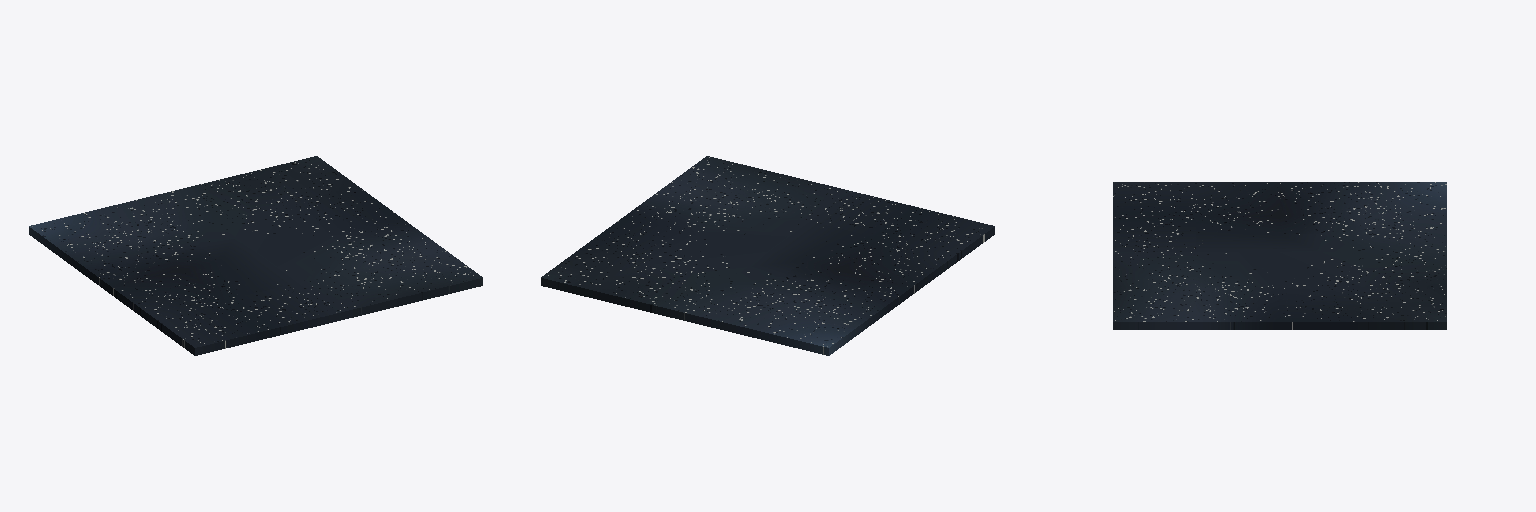
The picture shows the model from 3 angles: view 1: azimuth 30°, elevation 25°; view 2: azimuth 150°, elevation 25°; view 3: azimuth 270°, elevation 25°; orthographic projection.
Parts seen in each view (by area): view 1: Cube_Cube.001; view 2: Cube_Cube.001; view 3: Cube_Cube.001.
Part boxes in pixels (x1,y1,x2,y2): Cube_Cube.001: (29,156,482,355); Cube_Cube.001: (541,156,994,355); Cube_Cube.001: (1113,182,1446,329).
Size of the model in its own units: 4.99 by 0.1333 by 4.99.
1 materials, 1 textured.